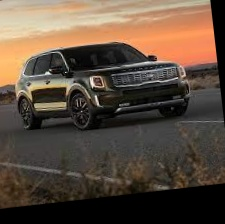car: (0, 16, 200, 144)
